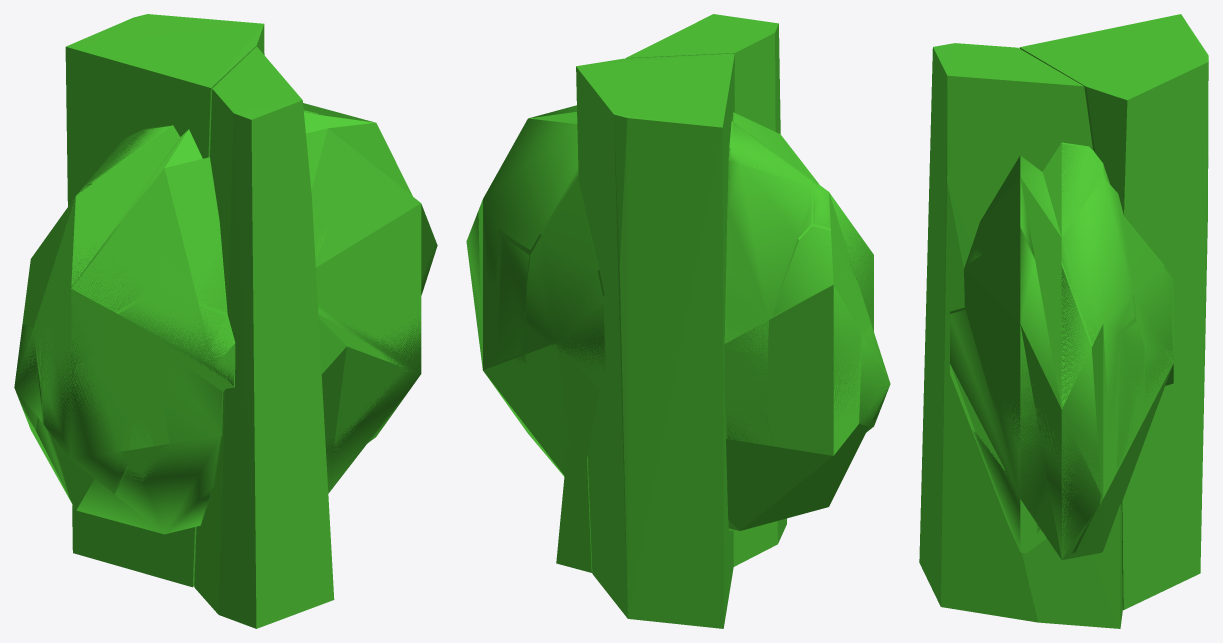
Rendered from spiralPieces.fbx.
The picture shows the model from 3 angles, left to right: view 1: azimuth 30°, elevation 25°; view 2: azimuth 150°, elevation 25°; view 3: azimuth 270°, elevation 25°; orthographic projection. The views are drawn at different scales.
Parts seen in each view (by area): view 1: Spiral, Spiral_cell.001, Spiral_cell.003, Spiral_cell.011, Spiral_cell.006, Spiral_cell.008, Spiral_cell, Spiral_cell.007, Spiral_cell.014; view 2: Spiral_cell.003, Spiral, Spiral_cell.011, Spiral_cell.001, Spiral_cell.015, Spiral_cell.010, Spiral_cell.014, Spiral_cell.013, Spiral_cell.006, Spiral_cell.007, Spiral_cell.008; view 3: Spiral_cell.001, Spiral_cell.003, Spiral, Spiral_cell.008, Spiral_cell.010, Spiral_cell.015, Spiral_cell.013.
Part boxes in pixels (x1,y1,x2,y2): Spiral: (18,103,435,525); Spiral_cell.001: (194,46,334,628); Spiral_cell.003: (65,14,264,587); Spiral_cell.011: (76,126,226,534); Spiral_cell.006: (42,184,149,493); Spiral_cell.008: (318,240,437,493); Spiral_cell: (118,297,234,385); Spiral_cell.007: (14,324,42,429); Spiral_cell.014: (37,237,68,496); Spiral_cell.003: (576,53,734,628); Spiral: (466,112,889,530); Spiral_cell.011: (726,113,815,448); Spiral_cell.001: (556,14,786,572); Spiral_cell.015: (526,182,605,377); Spiral_cell.010: (483,105,578,291); Spiral_cell.014: (771,226,860,420); Spiral_cell.013: (497,236,529,364); Spiral_cell.006: (812,180,881,420); Spiral_cell.007: (859,325,890,426); Spiral_cell.008: (466,211,532,437); Spiral_cell.001: (919,43,1122,628); Spiral_cell.003: (1019,14,1208,610); Spiral: (950,142,1173,559); Spiral_cell.008: (950,229,1101,559); Spiral_cell.010: (966,144,1134,507); Spiral_cell.015: (1125,220,1173,400); Spiral_cell.013: (1116,322,1144,471).
Size of the model in its own units: 72.55 by 82.62 by 41.86.
